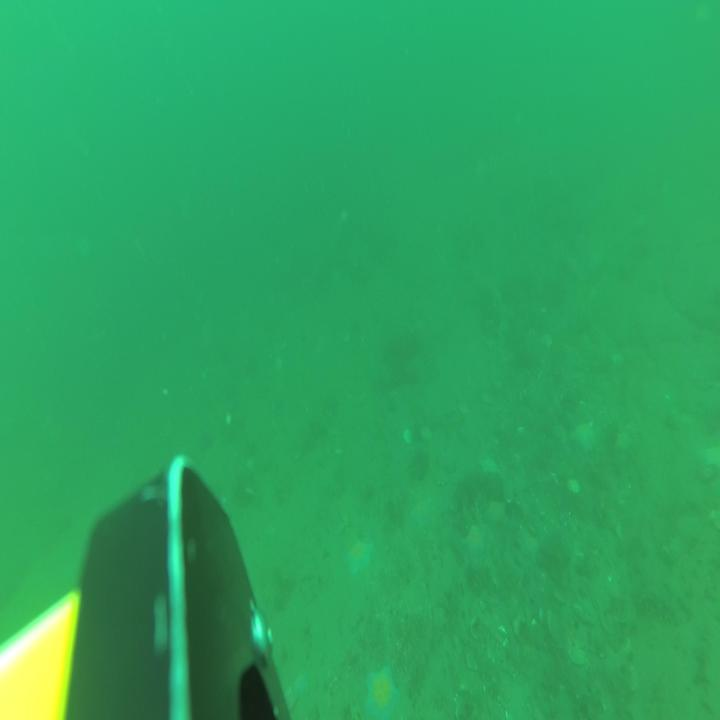holothurian: (629, 584, 683, 630)
scallop: (566, 644, 588, 668)
starfish: (363, 658, 404, 720), (345, 536, 376, 577), (574, 416, 599, 454), (465, 521, 488, 556), (700, 437, 720, 472)
